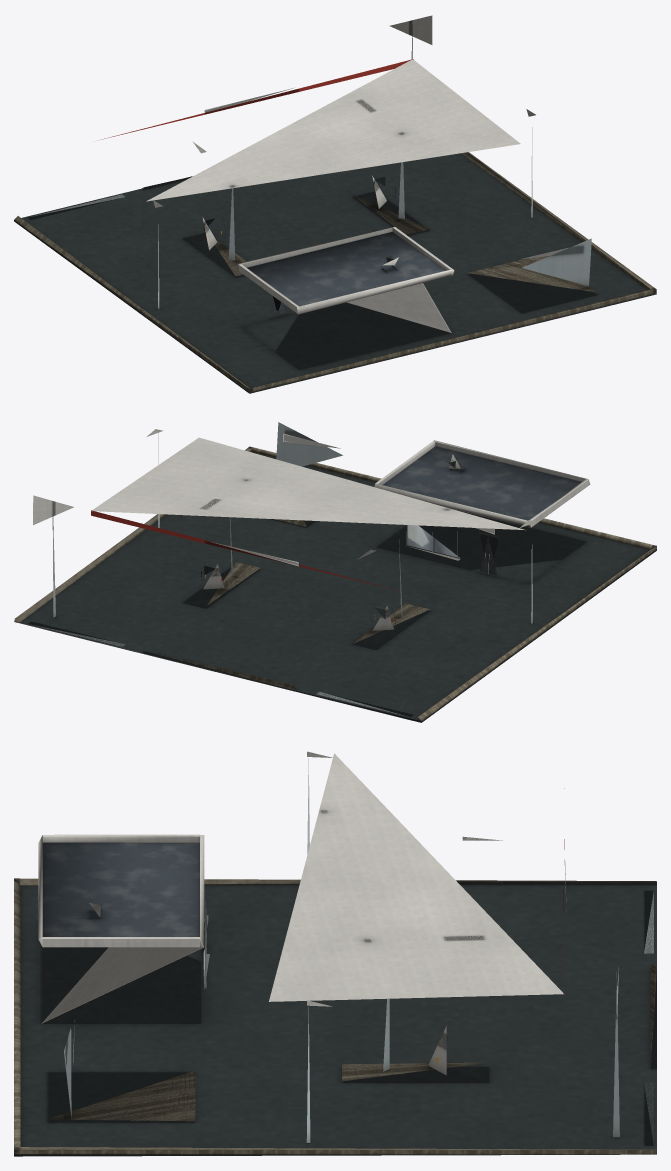
Rendered from fuel_urban_001.lod2.obj.
3 renders of one model, top to bottom at view 1: azimuth 30°, elevation 25°; view 2: azimuth 150°, elevation 25°; view 3: azimuth 270°, elevation 25°, orthographic. The views are drawn at different scales.
Parts seen in each view (by area): view 1: fuel_urban_001; view 2: fuel_urban_001; view 3: fuel_urban_001.
Part boxes in pixels (x1,y1,x2,y2): fuel_urban_001: (14, 15, 656, 393); fuel_urban_001: (14, 422, 656, 722); fuel_urban_001: (14, 751, 656, 1156).
Size of the model in its own units: 24.01 by 7 by 24.01.
Materials: 1 (1 with a texture image).
